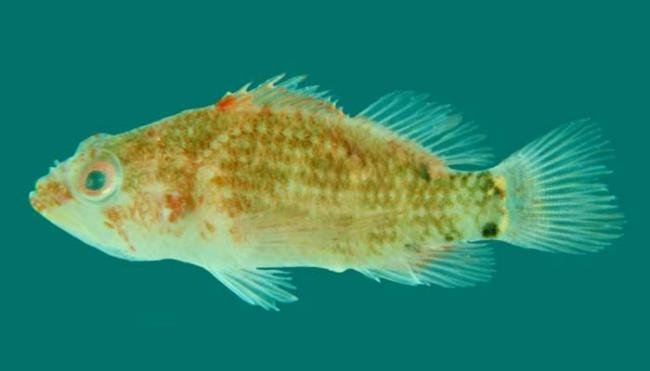fish: (28, 71, 628, 312)
